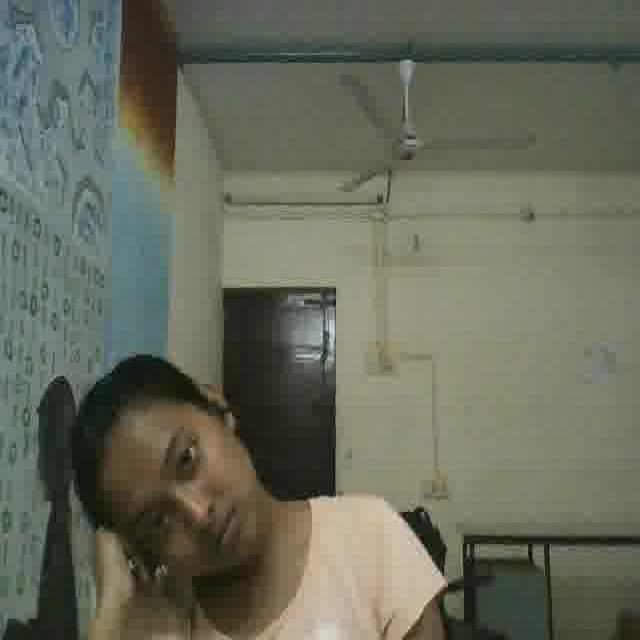Boredom: (107, 388, 259, 588)
